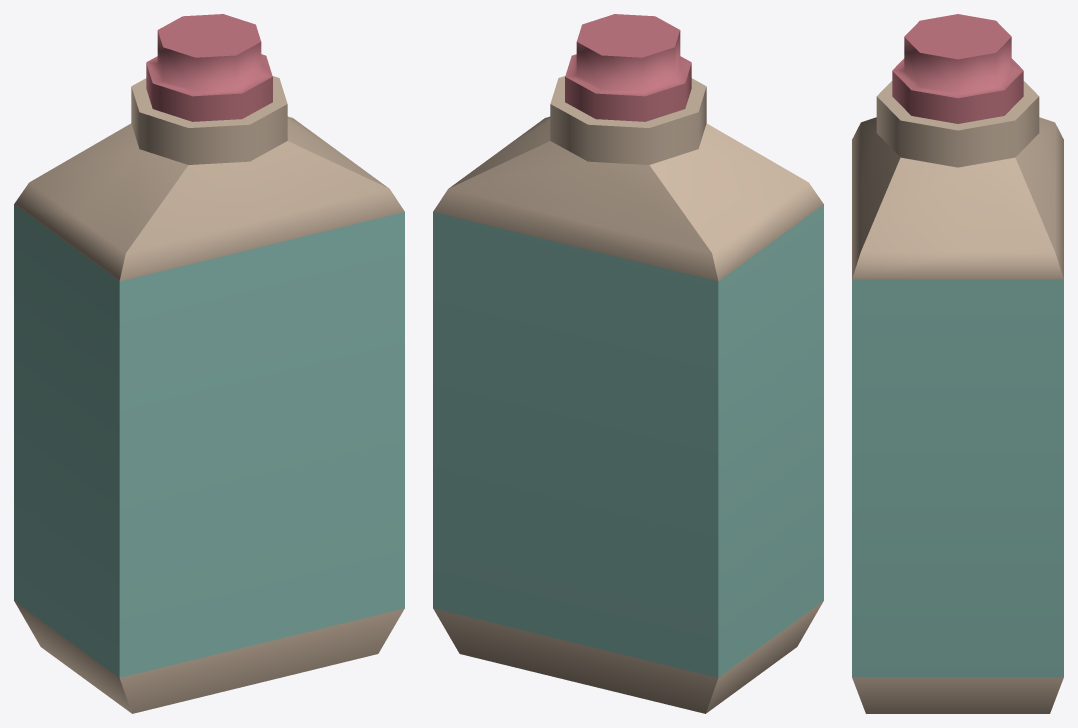
File: Bottle1_geo.fbx
3 views of the same model, side by side, from view 1: azimuth 30°, elevation 25°; view 2: azimuth 150°, elevation 25°; view 3: azimuth 270°, elevation 25° (orthographic).
Parts seen in each view (by area): view 1: Bottle1_geo; view 2: Bottle1_geo; view 3: Bottle1_geo.
Part boxes in pixels (x1,y1,x2,y2): Bottle1_geo: (14,14,404,713); Bottle1_geo: (433,14,823,713); Bottle1_geo: (852,14,1063,713).
Size of the model in its own units: 0.2289 by 0.1466 by 0.471.
